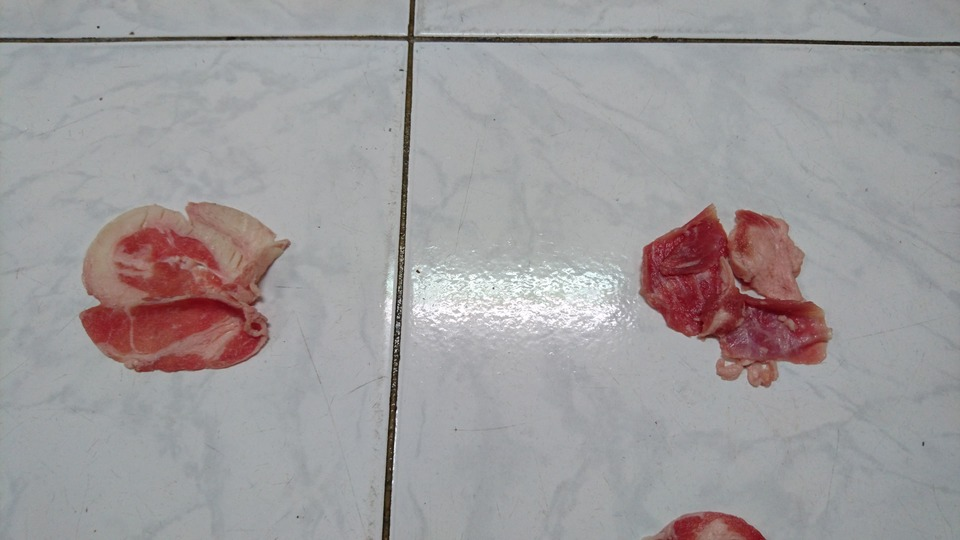restructured meat: (637, 199, 835, 391), (79, 197, 278, 371)
